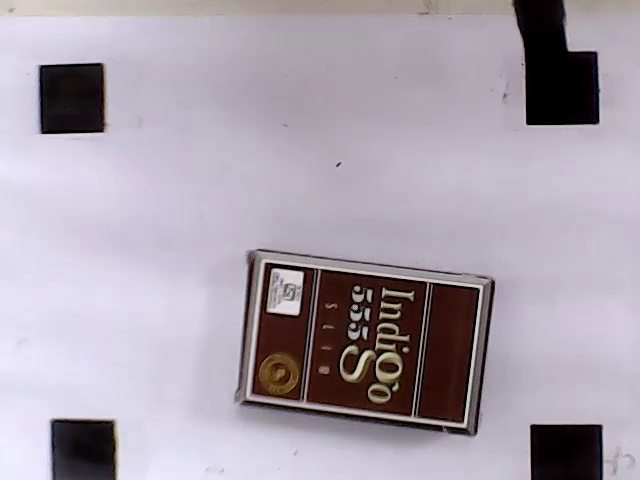BEX: (250, 262, 482, 426)
